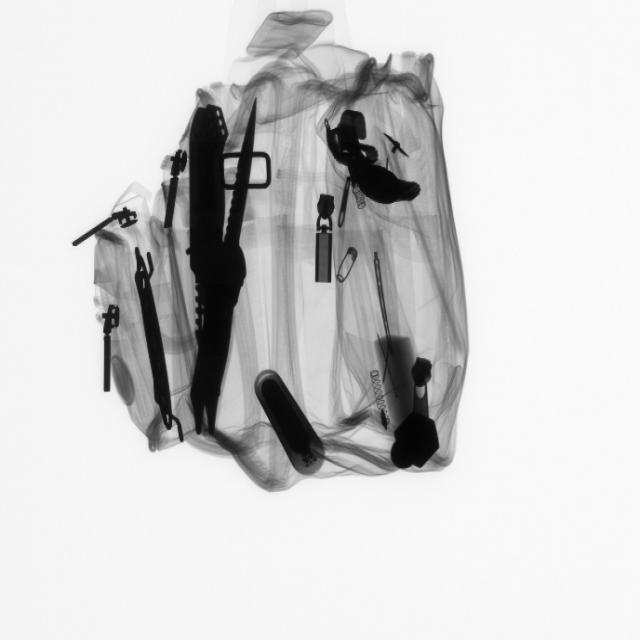KNIFE: (181, 104, 264, 445)
